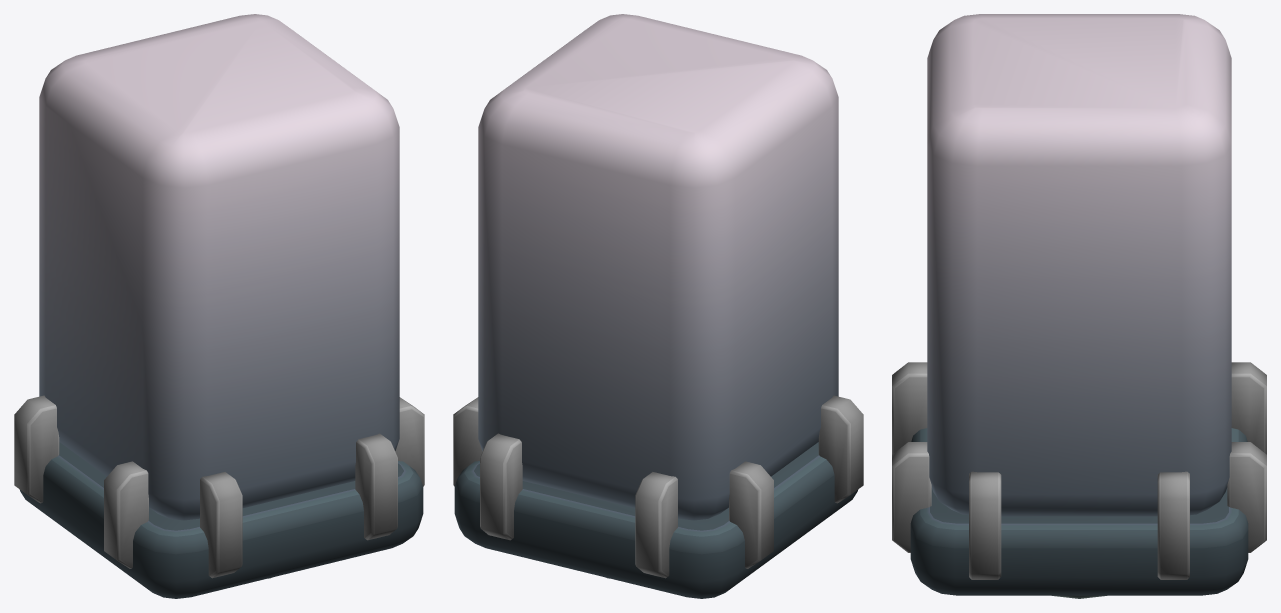
File: sp_food_grower_can_pumpkin.fbx
The picture shows the model from 3 angles, left to right: view 1: azimuth 30°, elevation 25°; view 2: azimuth 150°, elevation 25°; view 3: azimuth 270°, elevation 25°; orthographic projection. The views are drawn at different scales.
Visible parts, largest first — view 1: food_canister_pumpkin; view 2: food_canister_pumpkin; view 3: food_canister_pumpkin.
Boxes of the visible parts, box(x1,y1,x2,y2) form: food_canister_pumpkin: box(14, 14, 424, 598); food_canister_pumpkin: box(453, 14, 863, 598); food_canister_pumpkin: box(892, 14, 1266, 598).
Bounding box in the file's own units: 52.23 × 78.42 × 52.23.
